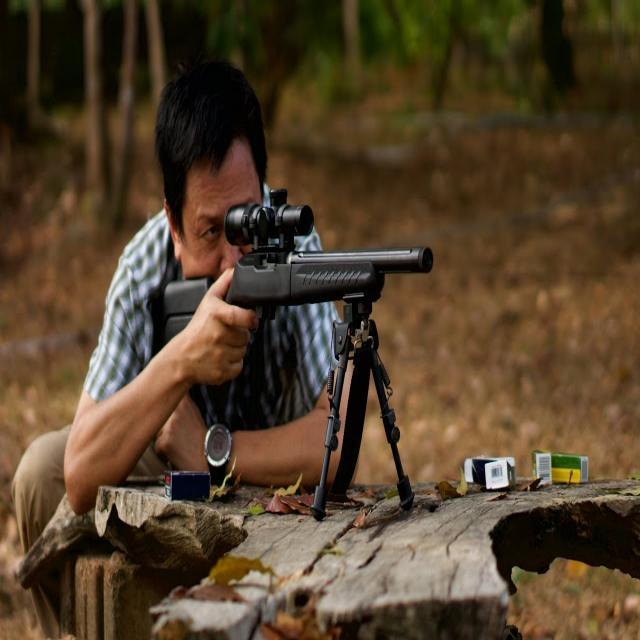rifle: (151, 194, 451, 380)
